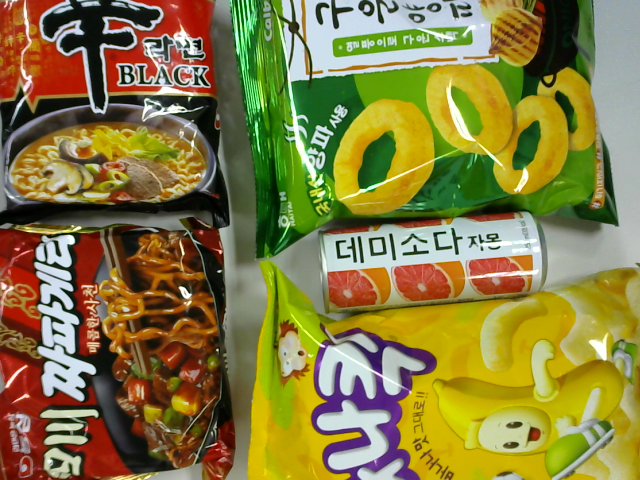Banana_Kick: (257, 268, 637, 480)
Demisoda_Grapefruit_Can_250ml: (321, 210, 545, 316)
Grilled_Onions: (229, 1, 621, 238)
Sichuan_Chapaghetti: (5, 220, 233, 480)
Sinramen_Black: (3, 4, 221, 234)
